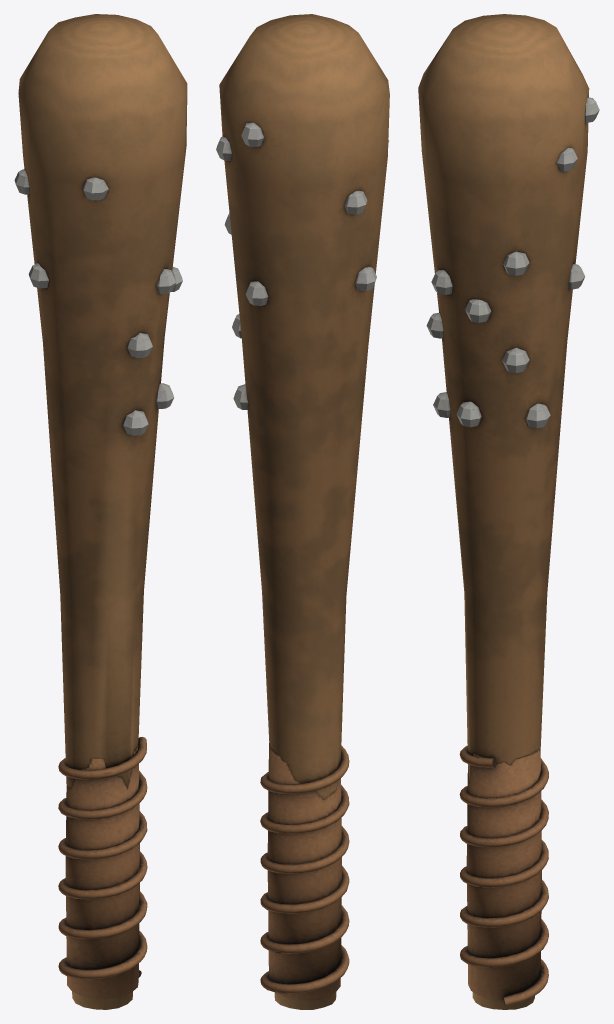
File: arma_clava_comum.glb
The picture shows the model from 3 angles, left to right: view 1: azimuth 30°, elevation 25°; view 2: azimuth 150°, elevation 25°; view 3: azimuth 270°, elevation 25°; orthographic projection.
Visible parts, largest first — view 1: arma_clava_comum; view 2: arma_clava_comum; view 3: arma_clava_comum.
Part boxes in pixels (box(x1,y1,x2,y2)): arma_clava_comum: box(14, 14, 187, 1009); arma_clava_comum: box(216, 14, 389, 1009); arma_clava_comum: box(418, 14, 599, 1009).
Size of the model in its own units: 0.1246 by 0.7706 by 0.1303.
1 material, 1 textured.
